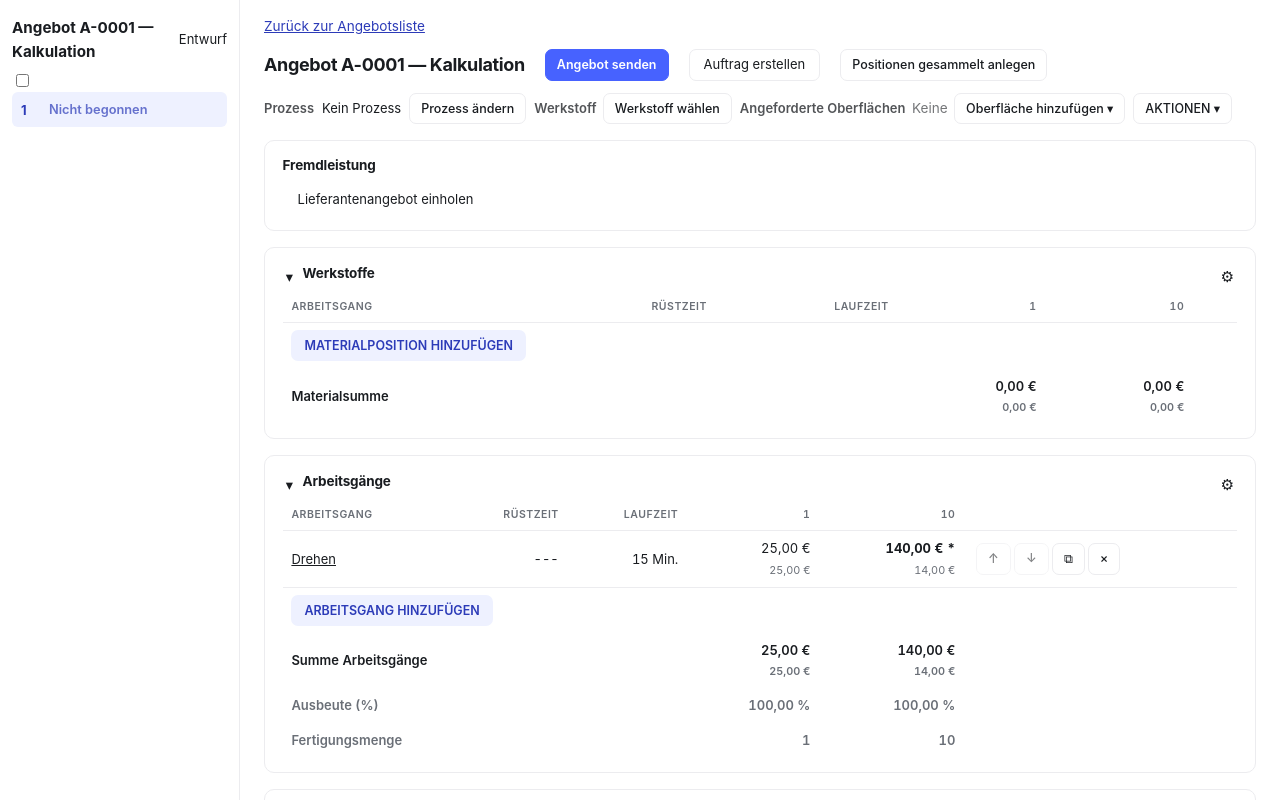
Test case: EstimatingPage › marks overridden cells and keeps the calc visible in the drawer
Expected: the text "140,00 € *" is shown, x1=886 y1=540 x2=955 y2=556
Note: Open the drawer: the Calculated value is retained underneath the override.
Click the button "Drehen" at [314, 559], box x1=291 y1=549 x2=336 y2=569
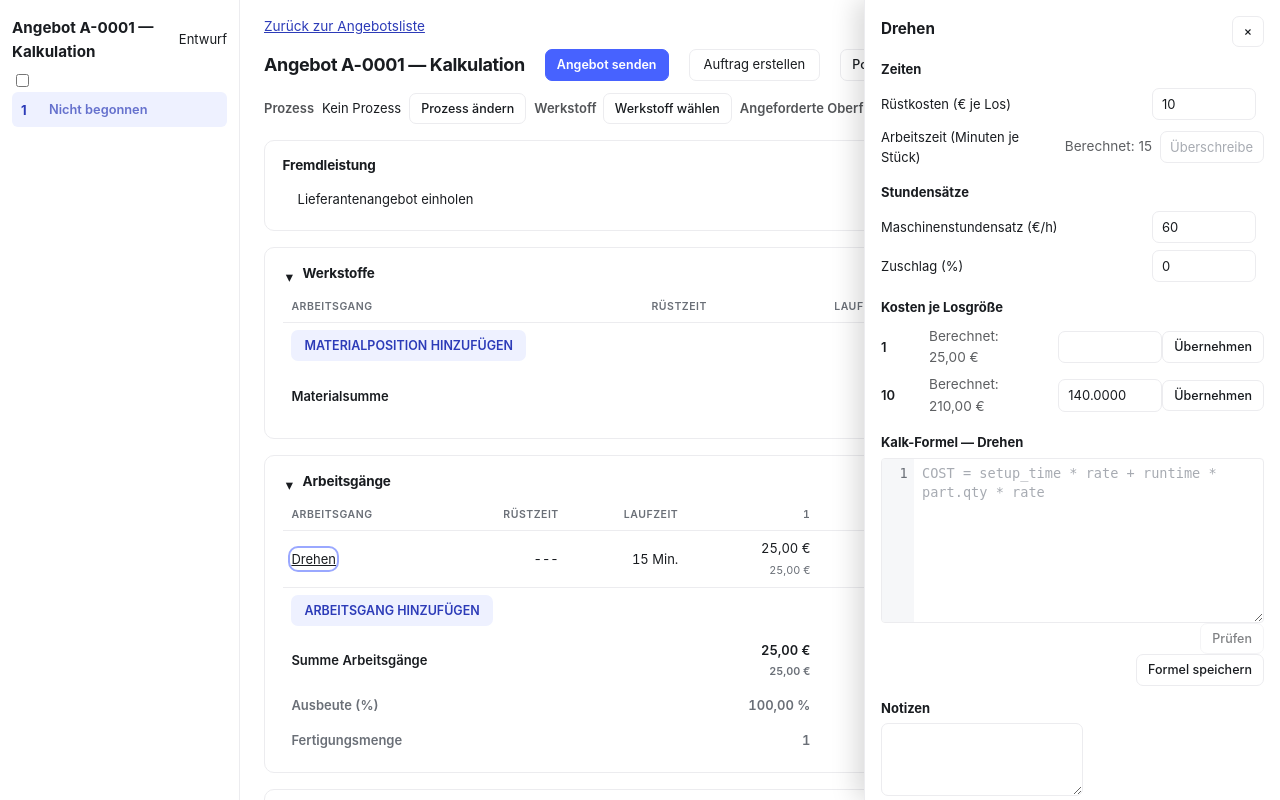
Expected: the text "Berechnet: 210,00 €" is shown, x1=929 y1=376 x2=999 y2=414
Expected: the field named "Kosten-Override für Losgröße 10" holds "140.0000", x1=1058 y1=380 x2=1162 y2=412
